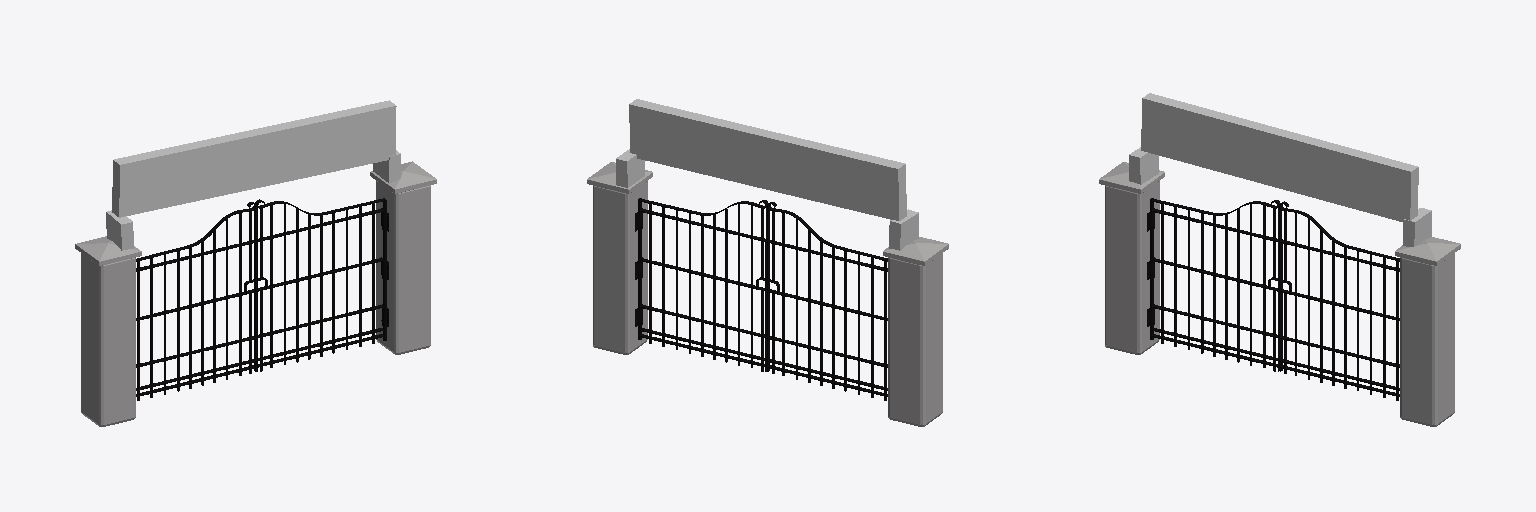
The picture shows the model from 3 angles: view 1: azimuth 30°, elevation 25°; view 2: azimuth 150°, elevation 25°; view 3: azimuth 330°, elevation 25°; orthographic projection.
Visible parts, largest first — view 1: Cubo.001_Cubo.003, column_2_Malla.052, column_Malla.002, Cubo.002, cap_2_Malla.050, cap_Malla, Cubo; view 2: Cubo.001_Cubo.003, column_2_Malla.052, column_Malla.002, Cubo.002, Cubo, cap_2_Malla.050; view 3: Cubo.001_Cubo.003, column_Malla.002, column_2_Malla.052, Cubo.002, Cubo, cap_Malla, cap_2_Malla.050, frame5_2_Malla.045.
Part boxes in pixels (x1,y1,x2,y2): Cubo.001_Cubo.003: (112,100,396,217); column_2_Malla.052: (81,253,135,426); column_Malla.002: (376,181,430,354); Cubo.002: (106,210,133,250); cap_2_Malla.050: (76,236,139,260); cap_Malla: (371,162,435,188); Cubo: (373,150,400,183); Cubo.001_Cubo.003: (629,99,906,220); column_2_Malla.052: (888,253,942,426); column_Malla.002: (593,181,647,354); Cubo.002: (889,209,918,250); Cubo: (616,149,644,187); cap_2_Malla.050: (884,237,947,260); Cubo.001_Cubo.003: (1141,93,1418,221); column_Malla.002: (1400,253,1454,426); column_2_Malla.052: (1105,181,1159,354); Cubo.002: (1129,147,1158,184); Cubo: (1403,208,1431,246); cap_Malla: (1396,237,1459,260); cap_2_Malla.050: (1099,162,1164,188); frame5_2_Malla.045: (1279,207,1282,371).
Bounding box in the file's own units: 5.77 × 4.08 × 0.7263.
Materials: 5 (1 with a texture image).